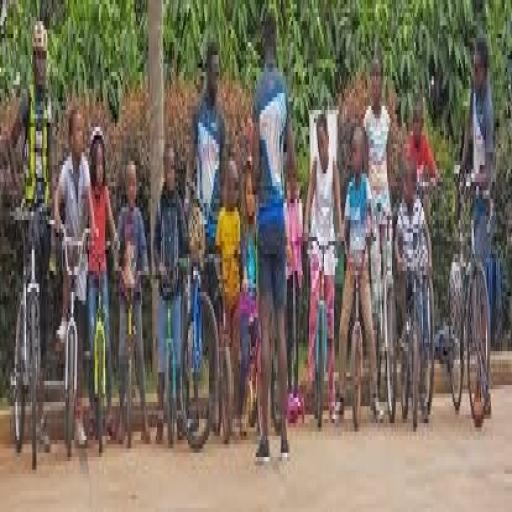cycling: (248, 8, 300, 474), (456, 30, 500, 432), (334, 118, 386, 432), (53, 97, 98, 457), (300, 106, 346, 432), (151, 136, 192, 448), (392, 148, 437, 427), (114, 152, 153, 453)
